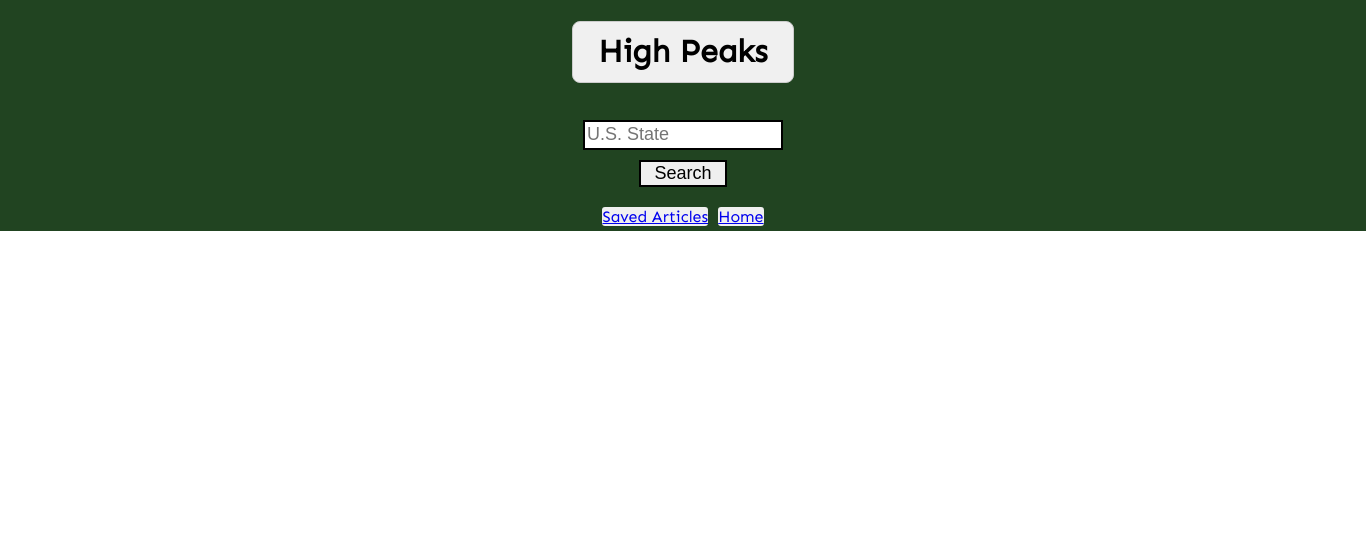
Test: API stubbing › search for the high peak of Vermont
Type "Vermont" into the search field with placeholder "U.S. State" at {"x": 683, "y": 135}, box [583,120,783,150]
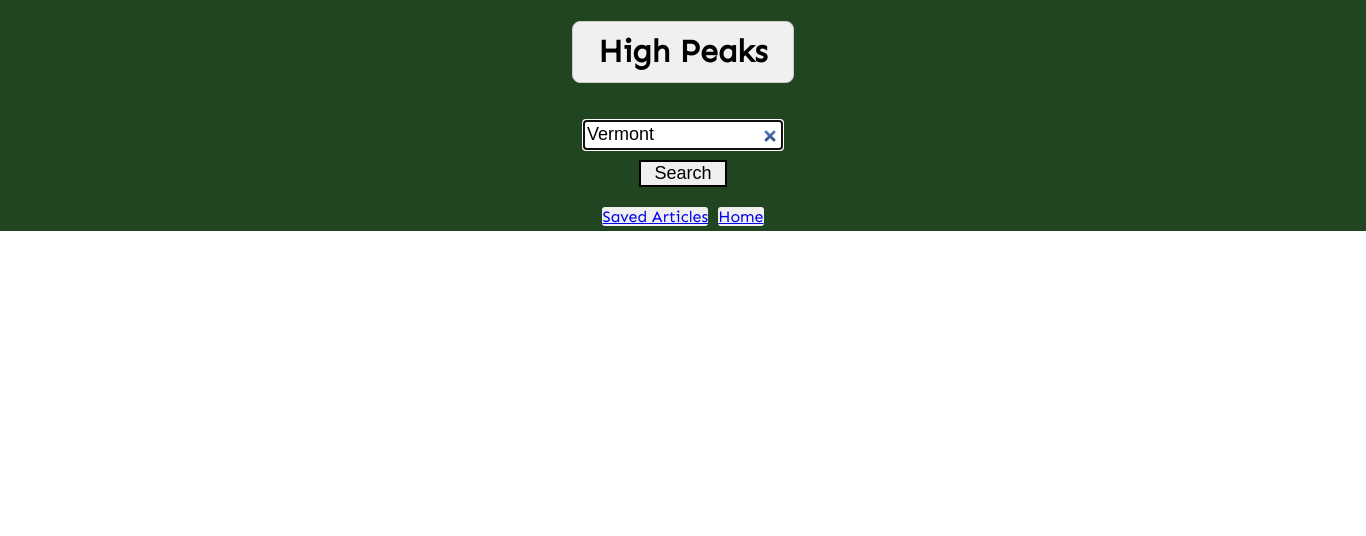
Click the button with class "search-button" at {"x": 683, "y": 174}, box [639,160,727,187]
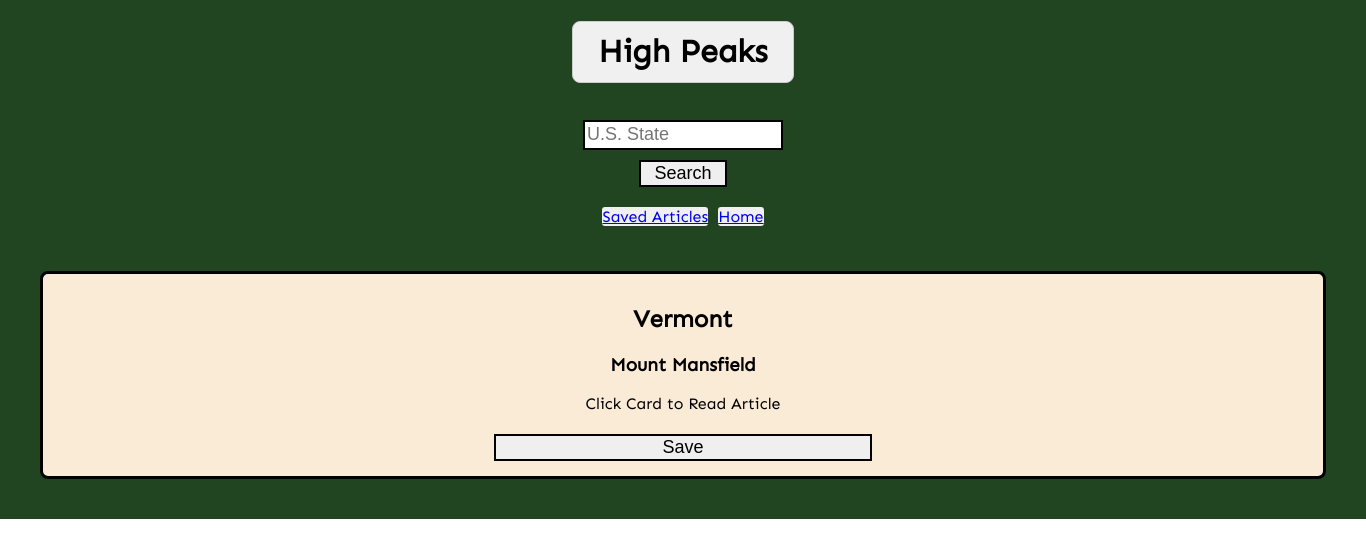
Expected: the element showing "Vermont Mount Mansfield Click Card to Read Article Save" is shown, [40,271,1326,479]
